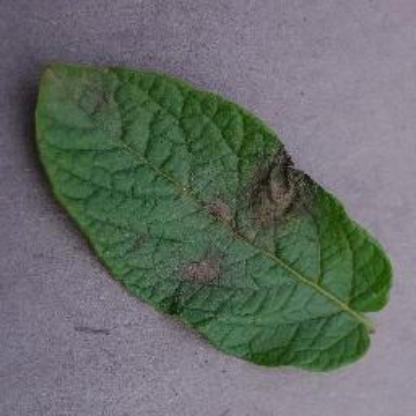Late-Blight: (24, 52, 398, 372)
